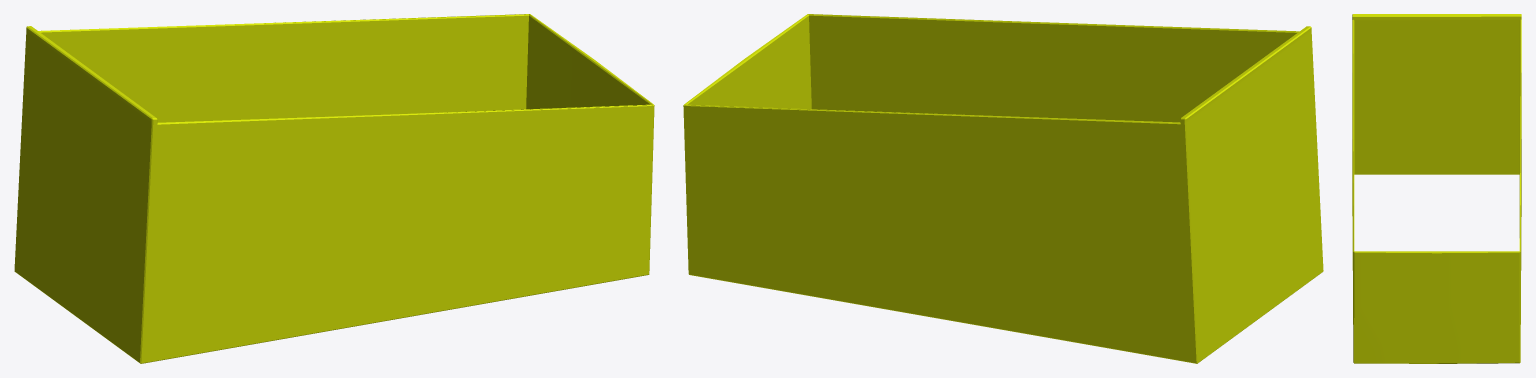
The model's file is Cabinet_Box.fbx.
3 renders of one model, left to right at view 1: azimuth 30°, elevation 25°; view 2: azimuth 150°, elevation 25°; view 3: azimuth 270°, elevation 25°, orthographic. The views are drawn at different scales.
Parts seen in each view (by area): view 1: Cabinet_Box; view 2: Cabinet_Box; view 3: Cabinet_Box.
Part boxes in pixels (x1,y1,x2,y2): Cabinet_Box: (14,14,654,363); Cabinet_Box: (683,14,1323,363); Cabinet_Box: (1352,14,1521,363).
Bounding box in the file's own units: 135 × 69.37 × 57.05.
